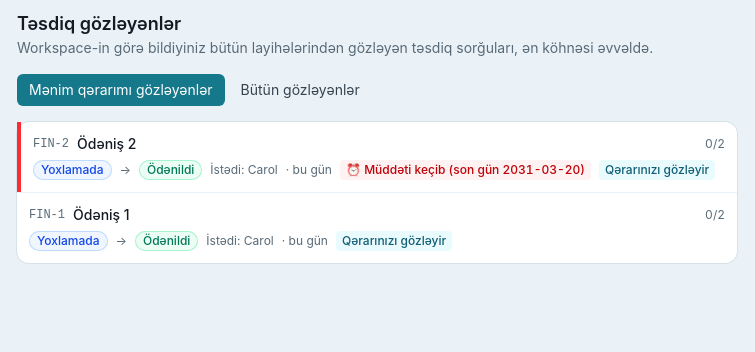
Test case: ApprovalsInboxPage › switches to all pending requests
The image size is (755, 352).
Step 1. Click the tab "Bütün gözləyənlər" → {"x": 300, "y": 90}, box [229,74,372,106]
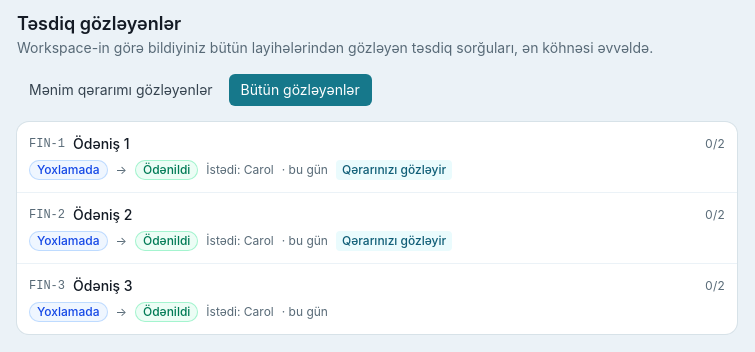
Result: the number of links with test id "approval-inbox-row" is 3 at [17,122,737,192]; [17,193,737,263]; [17,264,737,334]
